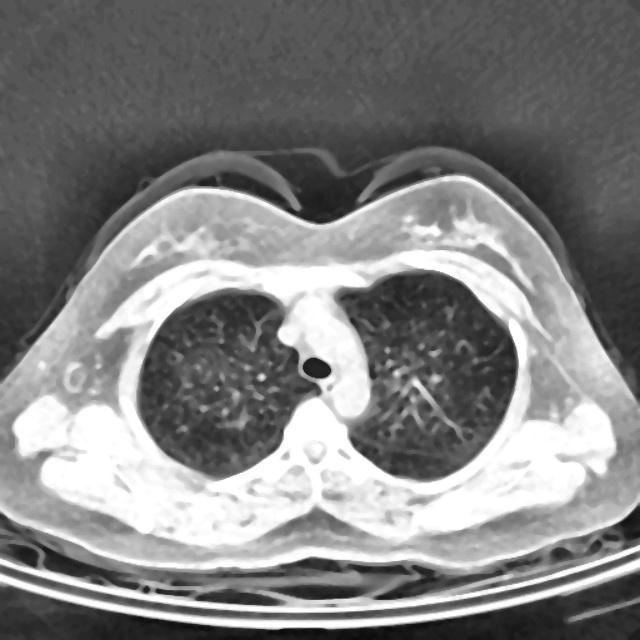covid: (1, 146, 638, 582)
